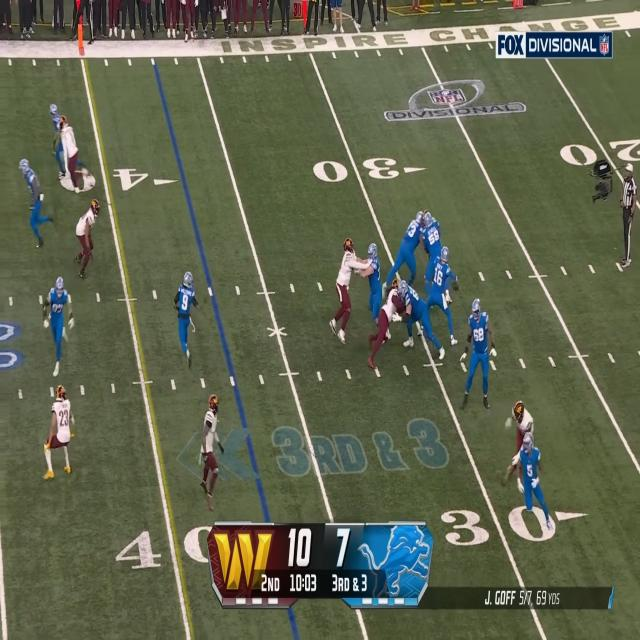Ball: (452, 280, 459, 291)
